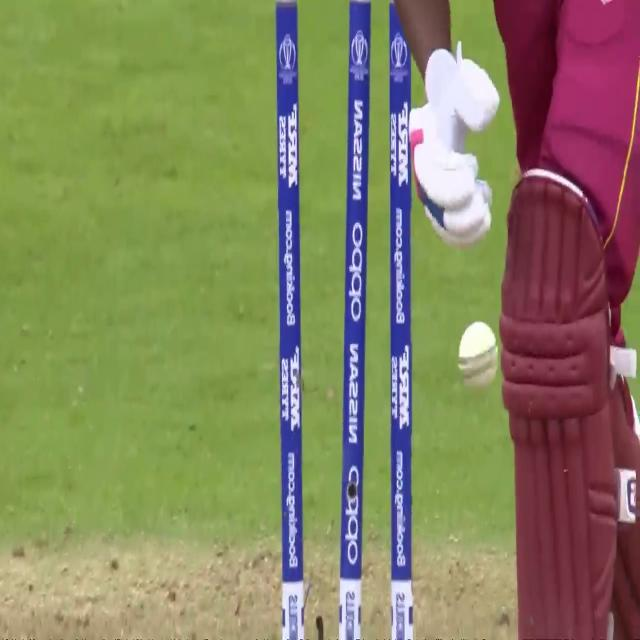ball: (456, 318, 500, 396)
